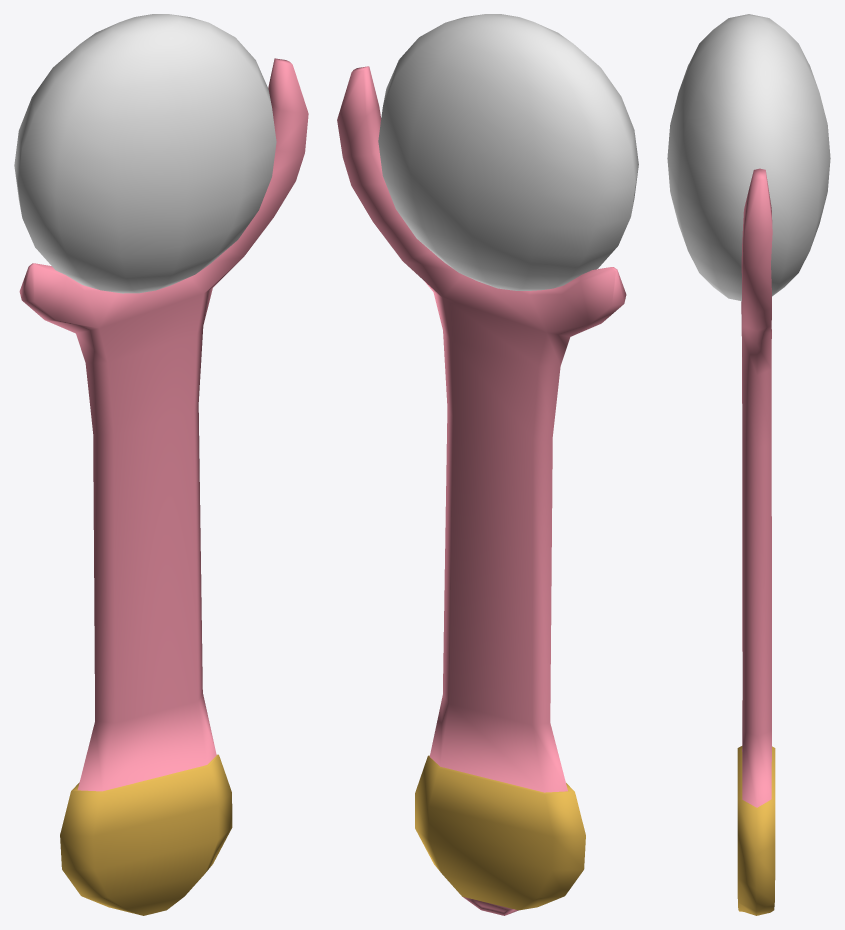
File: weapon.fbx
The picture shows the model from 3 angles, left to right: view 1: azimuth 30°, elevation 25°; view 2: azimuth 150°, elevation 25°; view 3: azimuth 270°, elevation 25°; orthographic projection.
Parts seen in each view (by area): view 1: weapon, Sphere.001; view 2: weapon, Sphere.001; view 3: Sphere.001, weapon.
Boxes of the visible parts, <box> form: weapon: <box>19,58,308,915</box>; Sphere.001: <box>14,14,276,293</box>; weapon: <box>337,66,626,915</box>; Sphere.001: <box>378,14,638,290</box>; Sphere.001: <box>667,14,830,301</box>; weapon: <box>737,168,775,915</box>.
Bounding box in the file's own units: 35.43 × 104 × 17.54.
